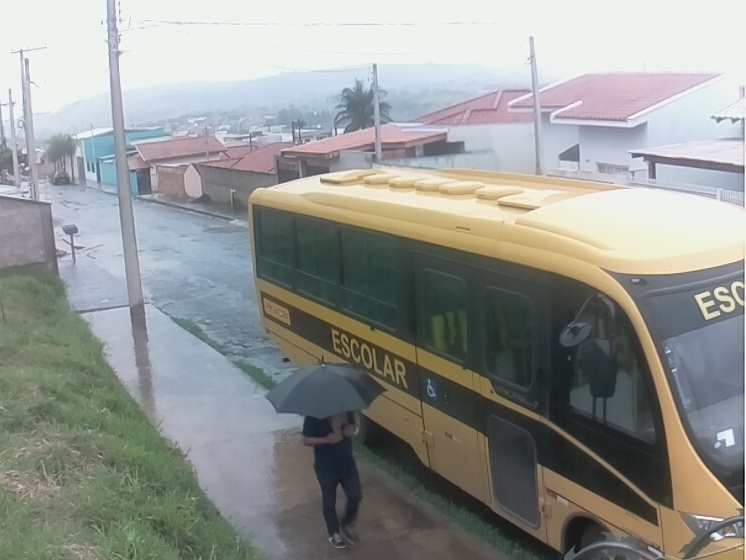person: (301, 407, 365, 551)
